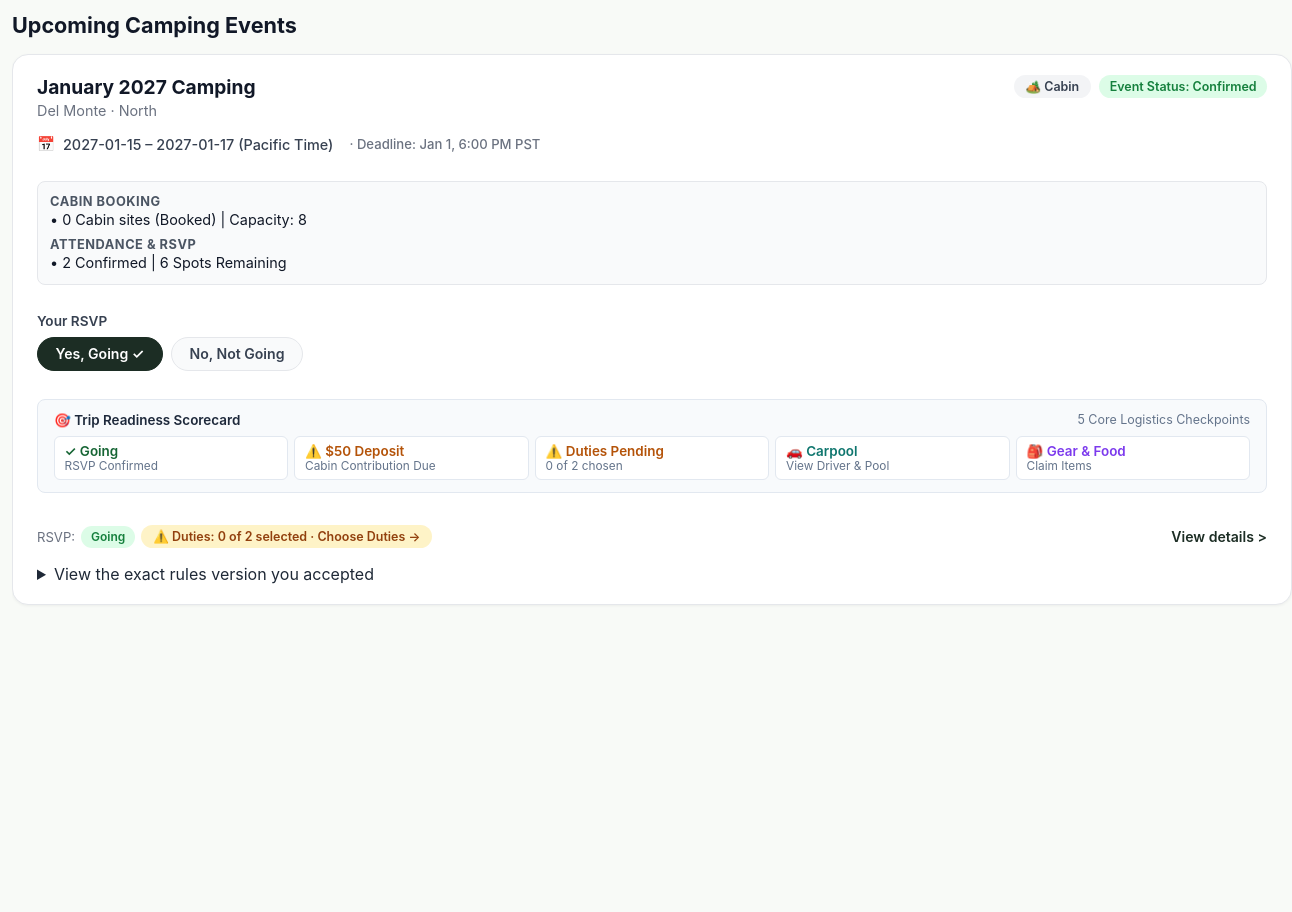
Test: TripCalendarPage › preserves the exact older Constitution version for an existing Coming response
This screenshot has width=1292, height=912.
Click the heading "View the exact rules version you accepted" at (214,574), box [54,564,374,584]
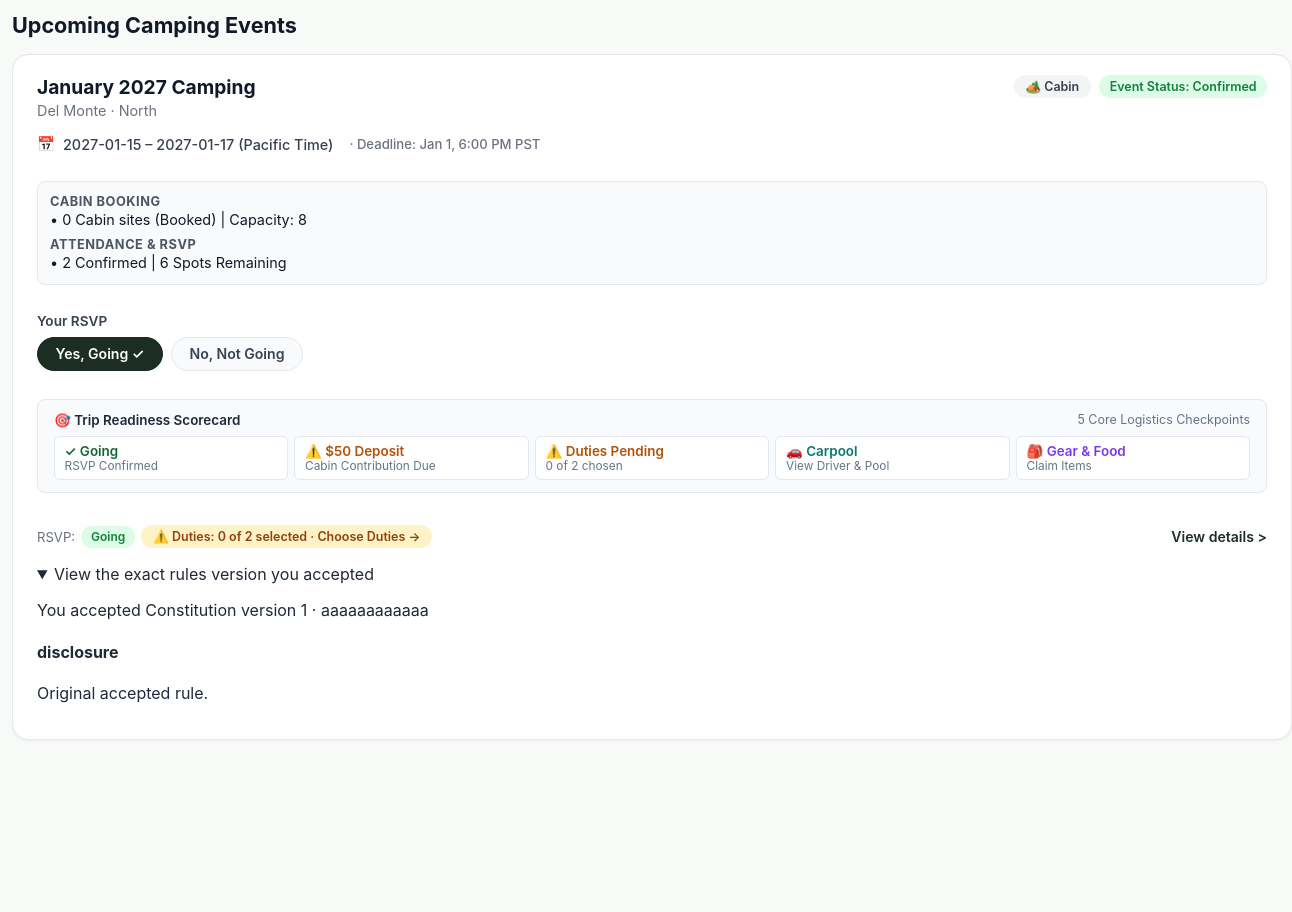
Expected: the button "Yes, Going ✓" is shown, [37,337,163,371]
Now the text "Original accepted rule." is shown, box [37,683,208,703]
